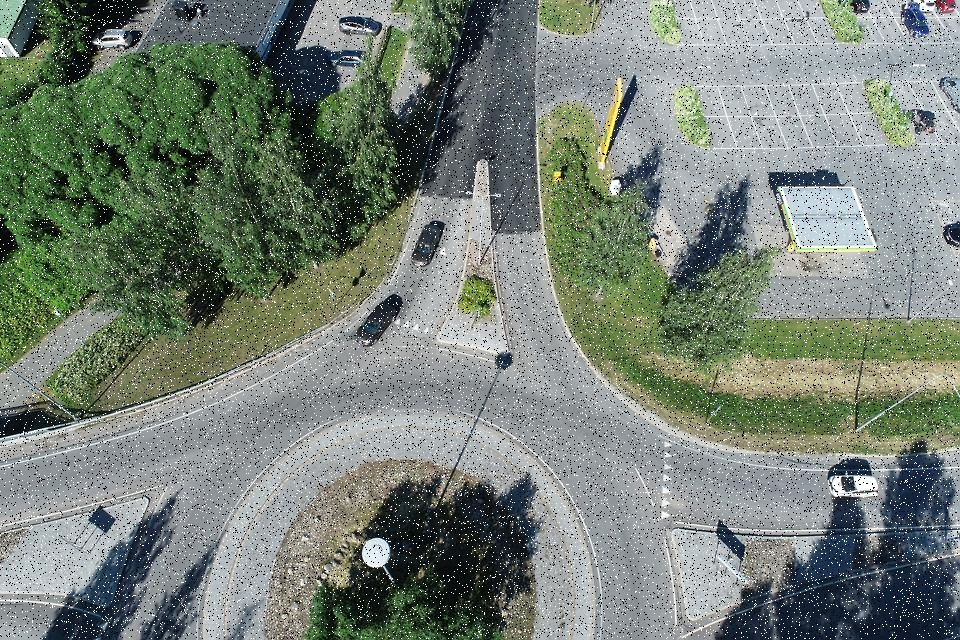roundabout: (94, 286, 770, 640)
